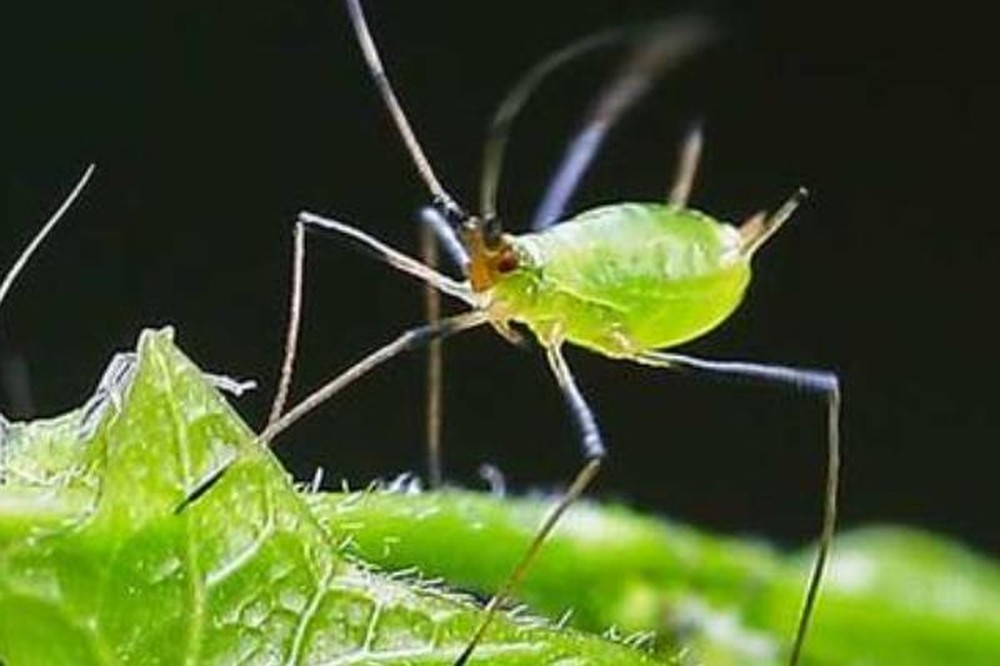Pulgon: (238, 64, 912, 643)
